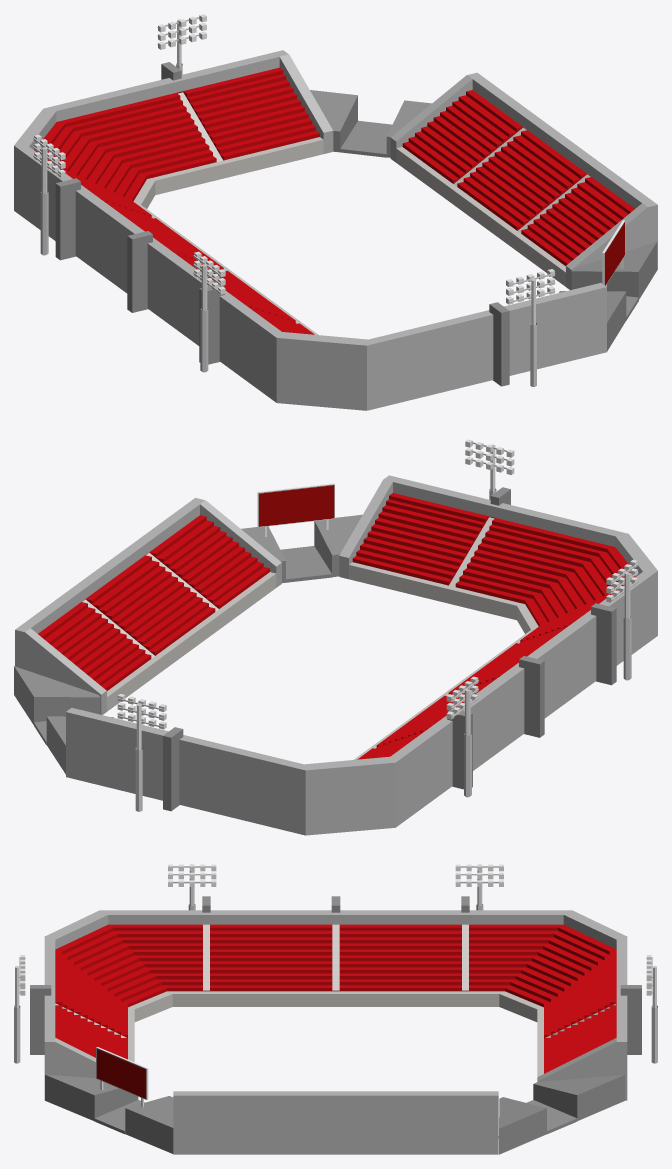
File: Stadium.fbx
3 views of the same model, one above another, from view 1: azimuth 30°, elevation 25°; view 2: azimuth 150°, elevation 25°; view 3: azimuth 270°, elevation 25° (orthographic). The views are drawn at different scales.
Visible parts, largest first — view 1: Building_Stadium_1; view 2: Building_Stadium_1; view 3: Building_Stadium_1.
Part boxes in pixels (x1,y1,x2,y2): Building_Stadium_1: [14, 14, 657, 410]; Building_Stadium_1: [14, 439, 657, 835]; Building_Stadium_1: [14, 864, 657, 1154].
Size of the model in its own units: 32.27 by 7.46 by 44.76.
1 material, 1 textured.
